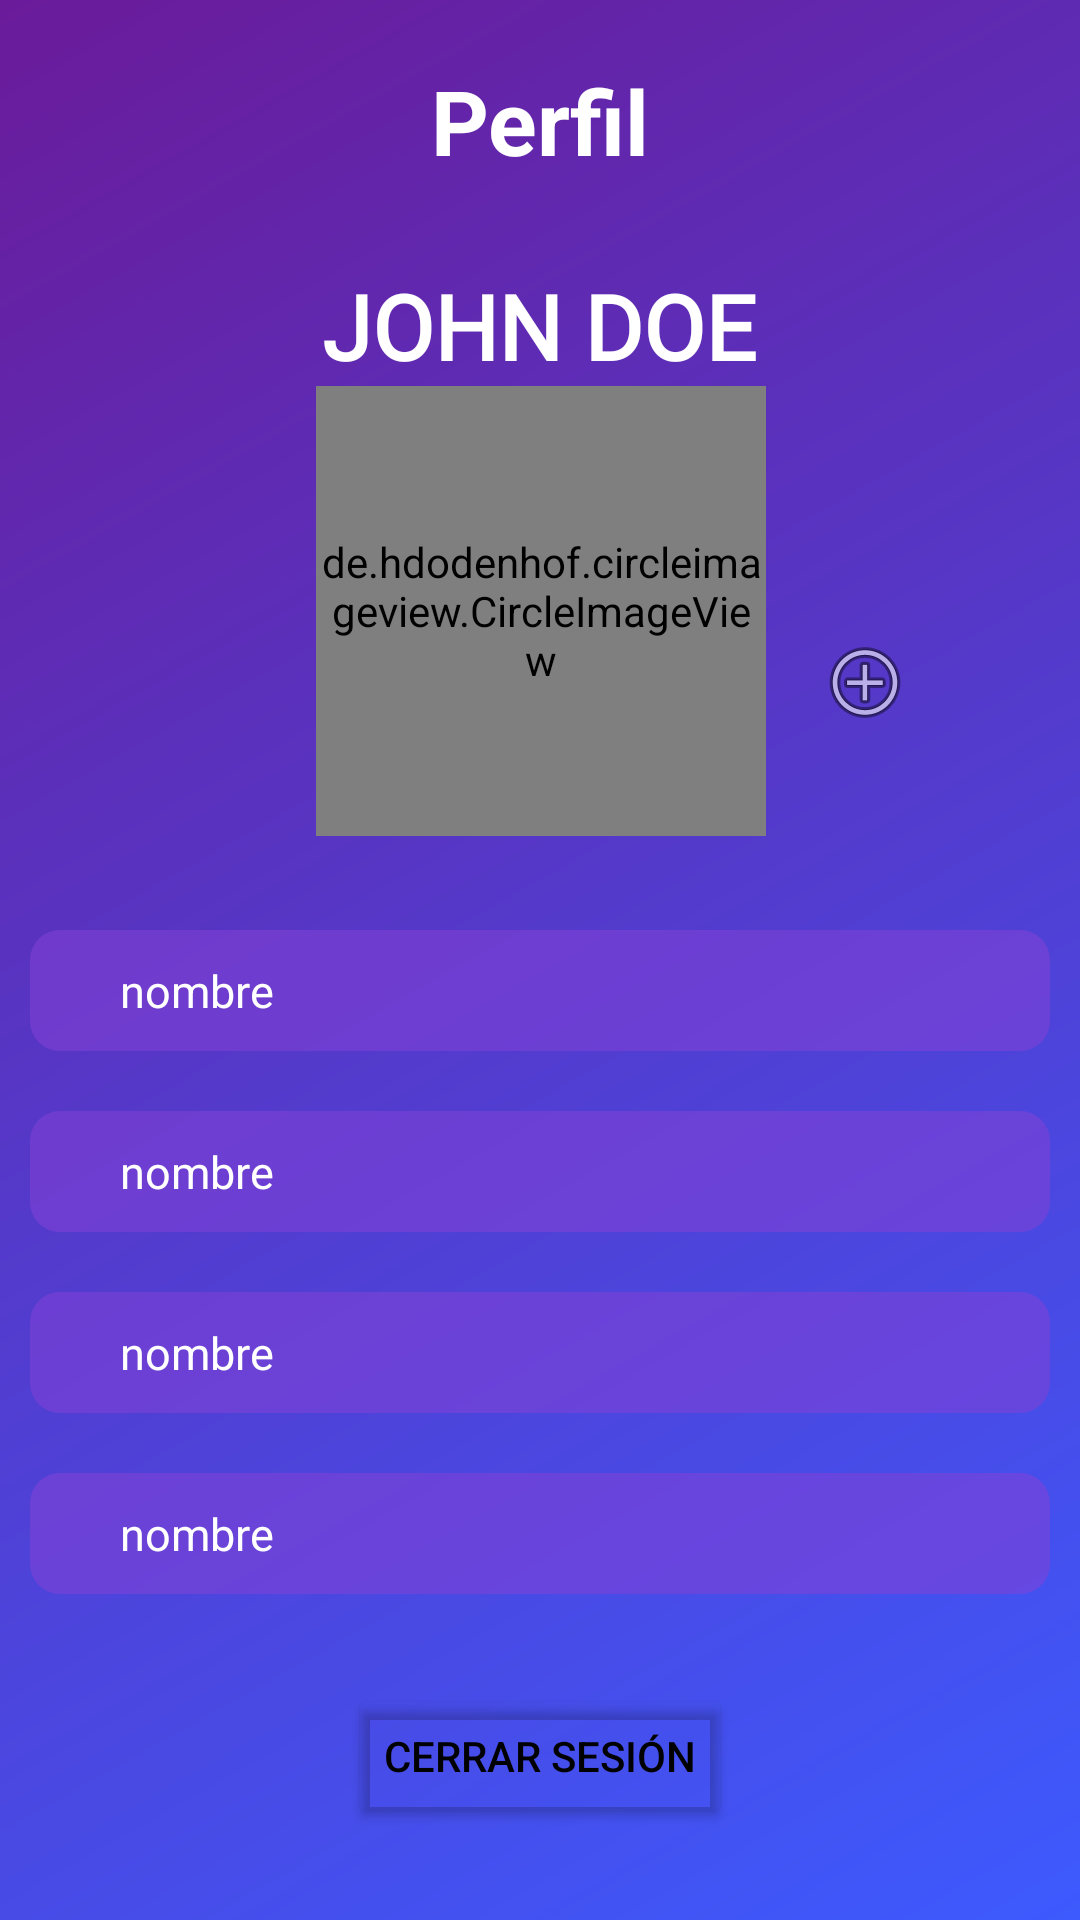

Where icons sit on this 1080px×1920px app screen, as (x1, y1, x2, y2):
add: (829, 647, 901, 718)
